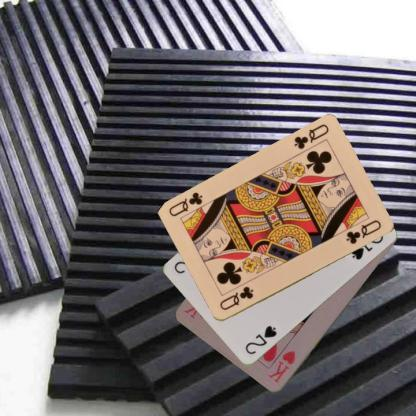2s: (242, 323, 279, 356)
Kh: (265, 347, 297, 384)
Qc: (291, 121, 330, 151), (217, 284, 254, 312)
